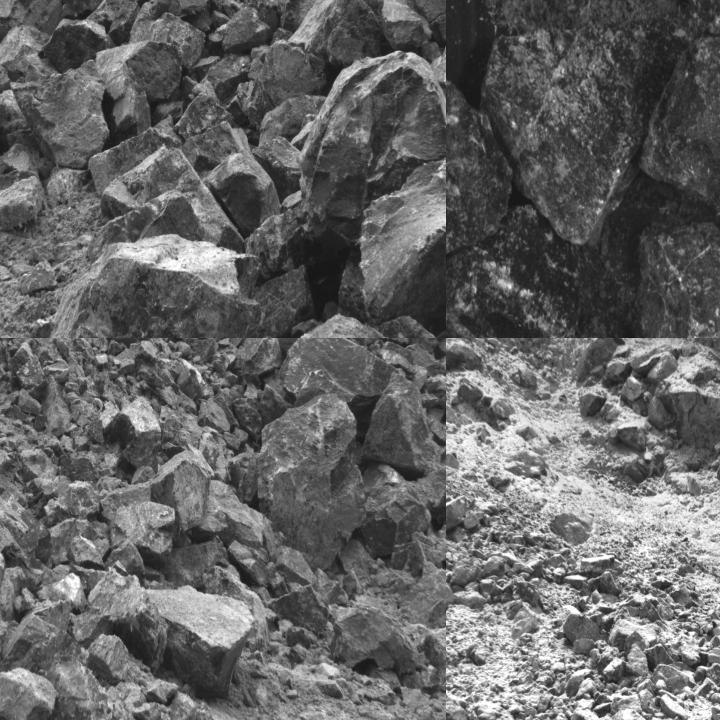stone: (480, 32, 686, 244), (255, 60, 445, 286), (338, 0, 445, 326), (17, 233, 264, 337), (637, 30, 719, 275), (256, 396, 364, 567), (446, 204, 582, 337), (99, 146, 246, 248), (446, 77, 512, 268), (141, 586, 248, 702), (10, 54, 110, 168), (281, 338, 395, 436), (635, 224, 719, 337), (71, 568, 168, 664), (95, 40, 183, 142), (360, 372, 443, 479), (90, 194, 216, 263), (89, 115, 184, 195), (361, 462, 433, 560), (244, 42, 324, 128), (212, 151, 288, 236), (0, 603, 88, 676), (290, 0, 389, 64), (149, 446, 212, 539), (159, 407, 233, 482), (334, 610, 423, 671), (197, 479, 269, 551), (130, 4, 204, 74), (247, 265, 316, 337), (46, 654, 111, 719), (109, 502, 174, 566), (42, 18, 114, 74), (110, 398, 161, 473), (174, 80, 234, 142), (182, 122, 250, 176), (258, 93, 327, 146), (0, 0, 65, 56), (163, 539, 229, 588), (269, 585, 329, 638), (253, 137, 301, 200), (225, 0, 282, 52), (381, 342, 438, 391), (0, 671, 58, 719), (381, 0, 433, 53), (226, 537, 272, 594), (43, 481, 102, 525), (0, 27, 48, 81), (0, 175, 43, 229), (237, 338, 284, 380), (173, 358, 214, 403), (230, 446, 260, 505), (670, 0, 719, 36), (421, 623, 445, 693), (85, 0, 131, 36), (418, 461, 445, 519), (374, 315, 445, 337), (66, 536, 110, 570), (231, 396, 262, 443), (108, 1, 140, 44), (261, 384, 294, 425), (17, 355, 48, 398), (0, 615, 18, 688), (21, 260, 58, 293), (421, 372, 445, 422), (197, 397, 230, 433), (564, 612, 606, 640), (615, 421, 646, 452), (576, 386, 606, 416), (587, 571, 622, 596), (446, 494, 468, 532), (579, 555, 615, 578), (625, 644, 650, 676), (222, 425, 250, 453), (446, 685, 469, 719), (660, 694, 689, 719), (191, 339, 219, 363), (130, 340, 158, 364), (517, 581, 539, 607), (411, 338, 439, 356), (603, 658, 624, 681), (426, 351, 445, 375), (370, 338, 423, 346), (422, 338, 445, 356), (446, 584, 456, 610)
